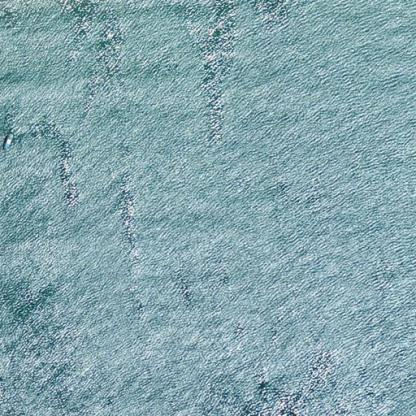ship: (2, 128, 14, 151)
